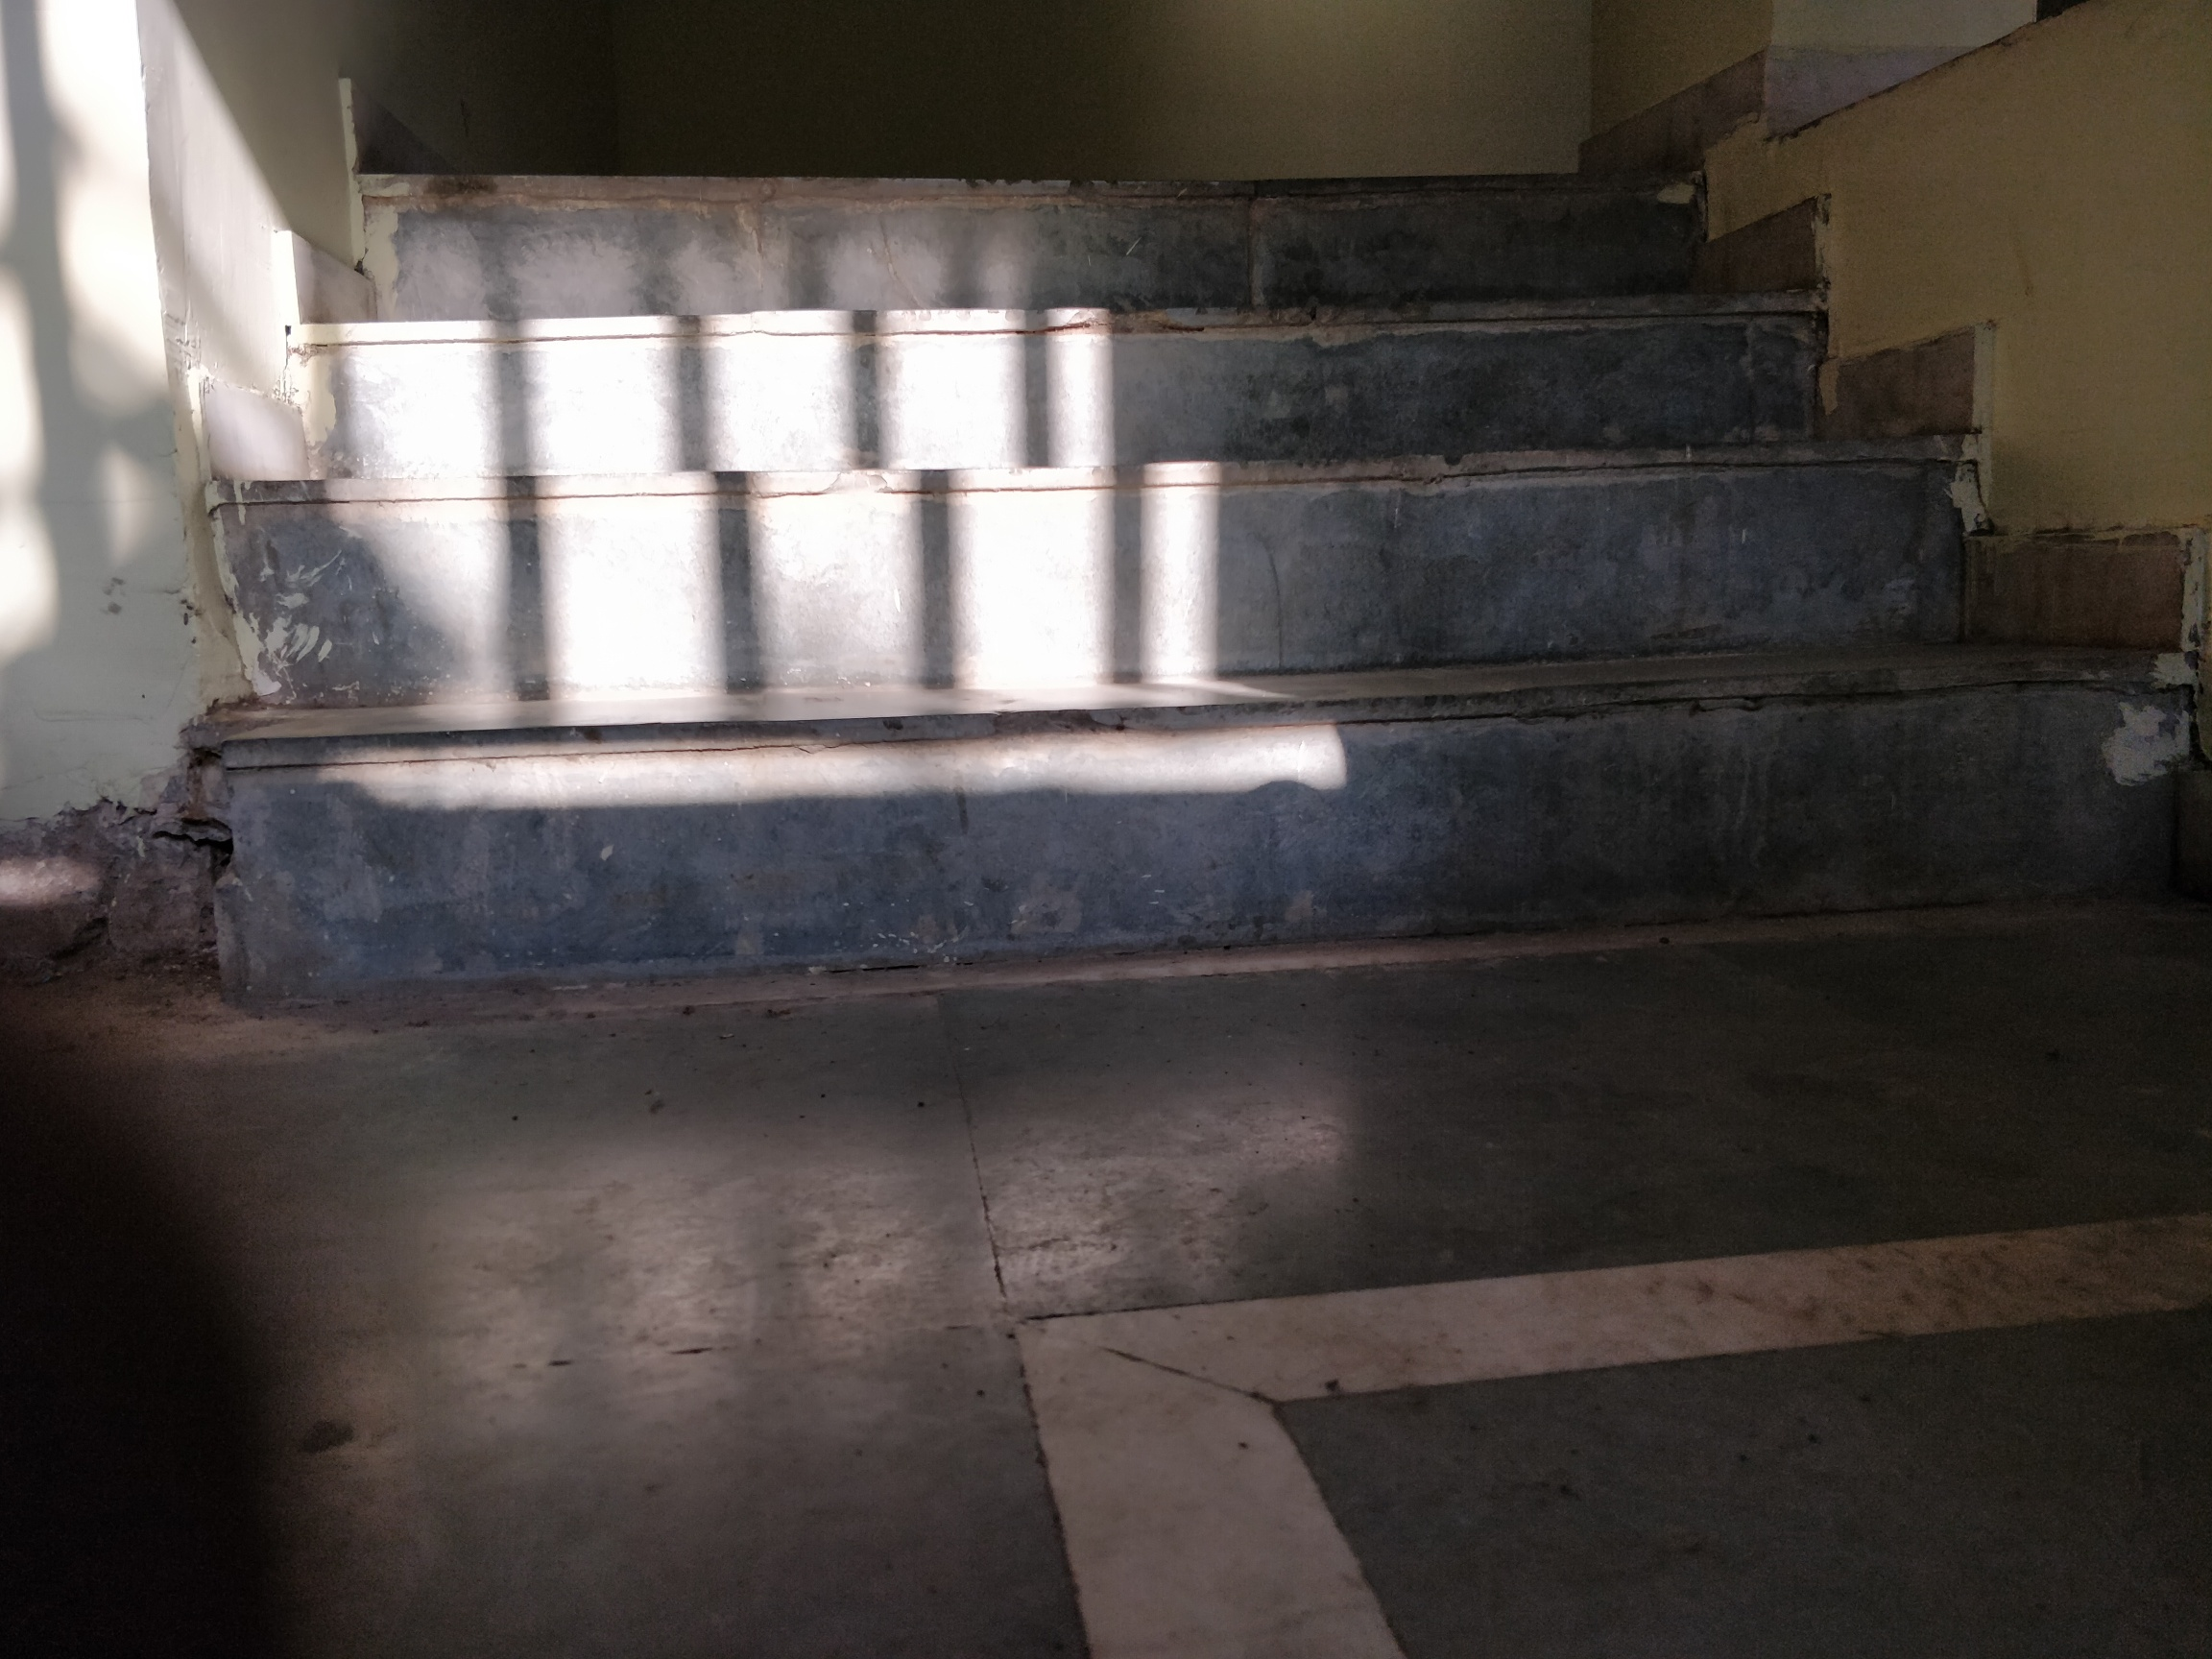stairs_up: (202, 157, 2175, 901)
